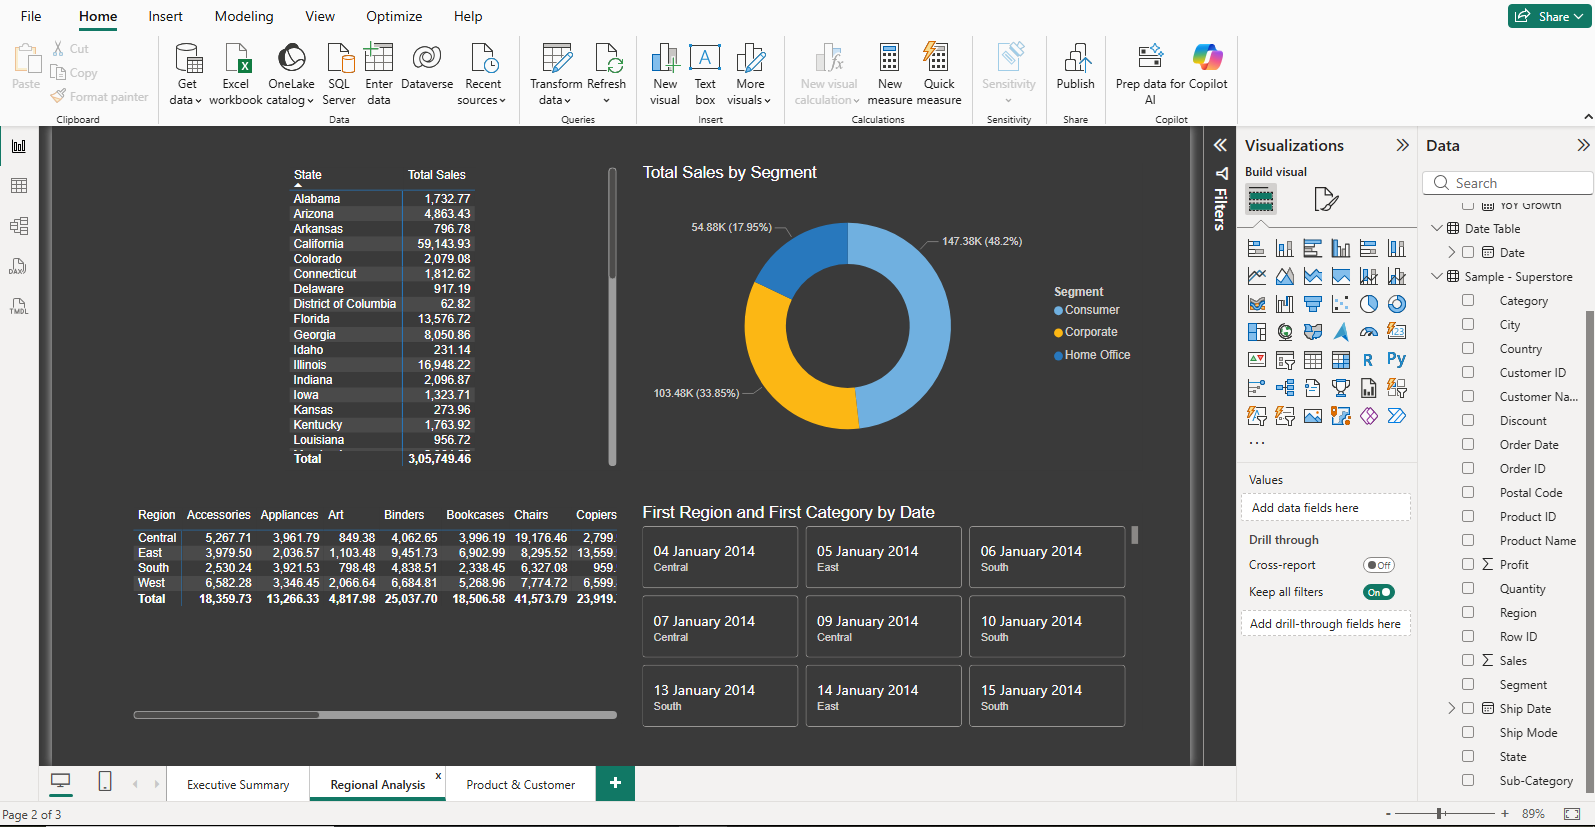

This screenshot's page, from the dashboard's own definition file:
{"tool":"powerbi","page":{"name":"Regional Analysis","canvas":[1280,720],"ordinal":1},"visuals":[{"type":"donutChart","fields":{"Category":["Sample - Superstore.Segment"],"Y":["_Measures.Total Sales"]},"box":[659.3,41.1,568,345.7],"z":0},{"type":"pivotTable","fields":{"Rows":["Sample - Superstore.Region"],"Columns":["Sample - Superstore.Sub-Category"],"Values":["_Measures.Total Sales"]},"box":[86.1,424.1,553.9,248],"z":1},{"type":"pivotTable","fields":{"Rows":["Sample - Superstore.State"],"Values":["_Measures.Total Sales"]},"box":[262.2,41.1,377.8,345.7],"z":2},{"type":"advancedSlicerVisual","fields":{"Values":["Date Table.Date"],"Label":["Min(Sample - Superstore.Region)"]},"box":[659.3,424.1,568,257],"z":3}]}

Visuals, with their boxes on the page's 1280x720 design canvas (x1, y1, x2, y2). These are canvas units, not pixel positions in the 1595x827 screenshot, which may show the page scaled, cropped or inside an application window:
donutChart - Sample - Superstore.Segment x _Measures.Total Sales: select_region(659, 41, 1227, 387)
pivotTable - Sample - Superstore.Region x Sample - Superstore.Sub-Category: select_region(86, 424, 640, 672)
pivotTable - Sample - Superstore.State x _Measures.Total Sales: select_region(262, 41, 640, 387)
advancedSlicerVisual - Date Table.Date x Min(Sample - Superstore.Region): select_region(659, 424, 1227, 681)
